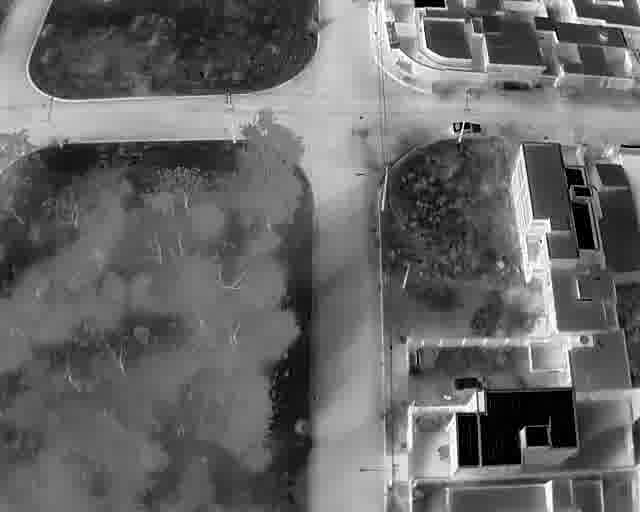car: (452, 376, 486, 394), (451, 120, 481, 134)
